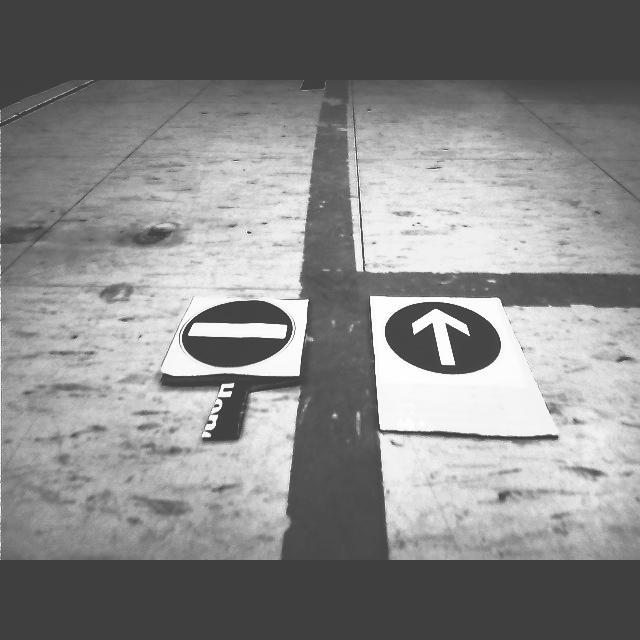GO FORWARD: (386, 302, 502, 375)
NO ENTRY: (181, 300, 295, 369)
